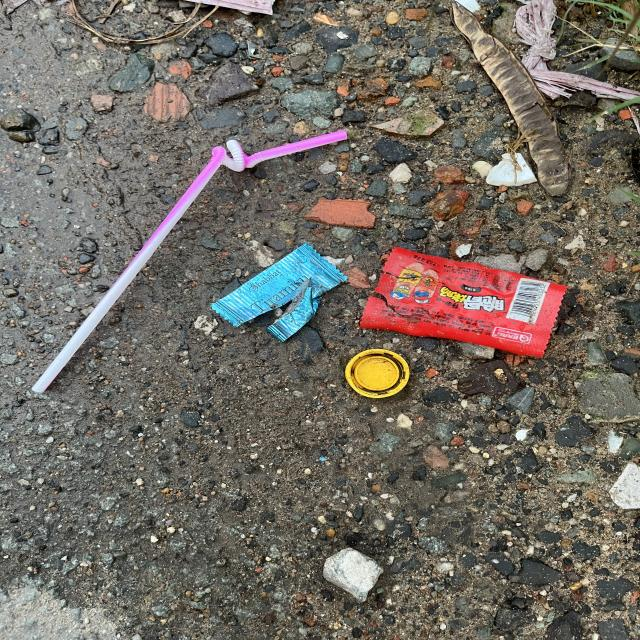drinking straw: (31, 129, 348, 393)
lid: (345, 349, 410, 398)
packet: (359, 246, 568, 358), (209, 242, 348, 342)
